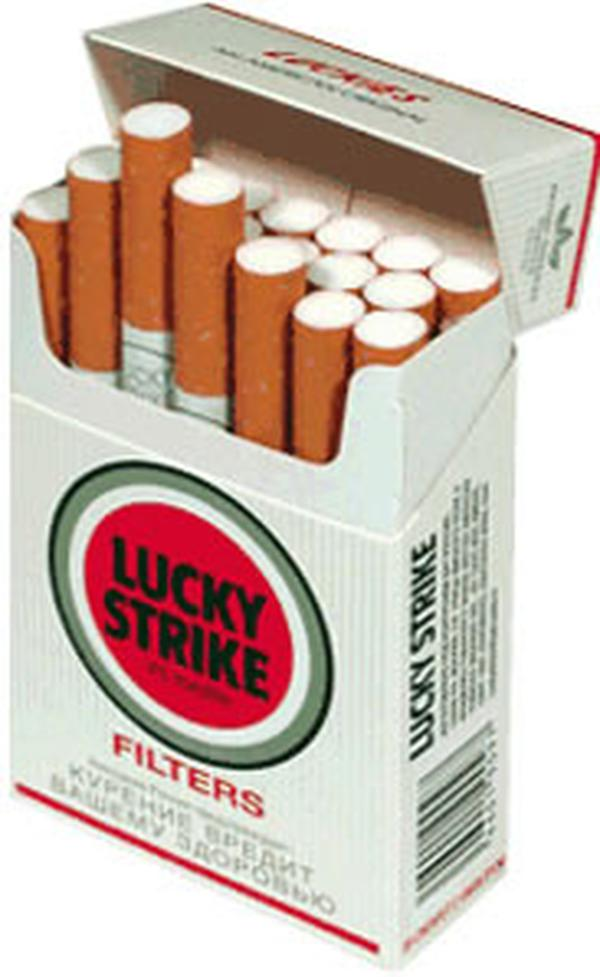lucky_strike_red: (9, 308, 412, 800)
